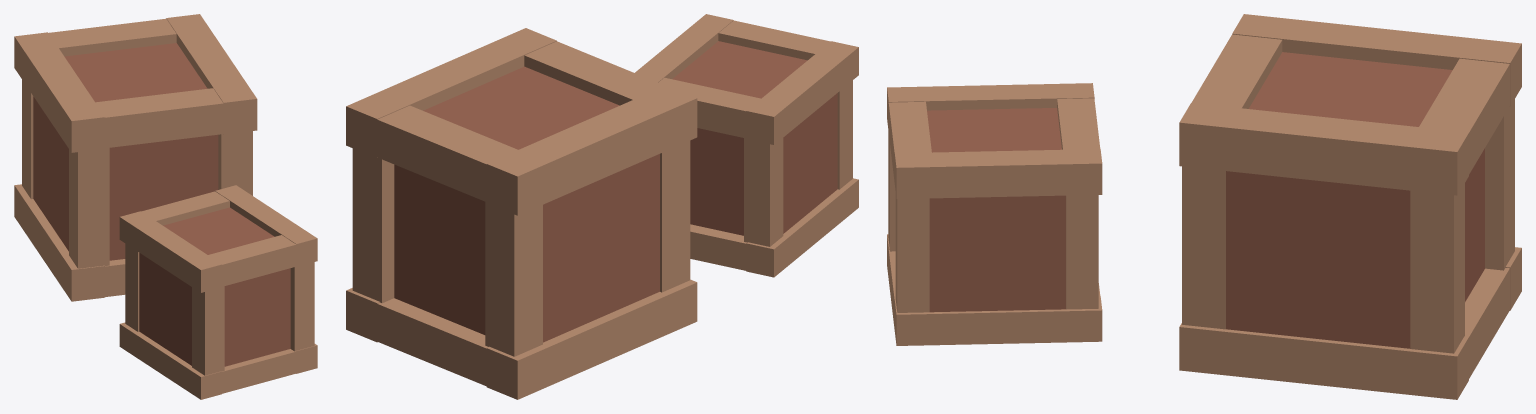
File: WoodenBoxes.fbx
The picture shows the model from 3 angles, left to right: view 1: azimuth 30°, elevation 25°; view 2: azimuth 150°, elevation 25°; view 3: azimuth 270°, elevation 25°; orthographic projection. The views are drawn at different scales.
Parts seen in each view (by area): view 1: Cube.034, Cube.040, Cube.033, Cube.036, Cube.039, Cube.041, Cube.046, Cube.042, Cube.035, Cube.043, Cube.044, Cube.038 (+2 smaller); view 2: Cube.034, Cube.033, Cube.040, Cube.038, Cube.036, Cube.035, Cube.041, Cube.037, Cube.042, Cube.039, Cube.045, Cube.043 (+2 smaller); view 3: Cube.034, Cube.033, Cube.040, Cube.035, Cube.041, Cube.038, Cube.036, Cube.043, Cube.039, Cube.046, Cube.042, Cube.045 (+1 smaller).
Part boxes in pixels (box(x1,y1,x2,y2)): Cube.034: box(33, 43, 218, 260); Cube.040: box(139, 207, 290, 366); Cube.033: box(14, 14, 257, 152); Cube.036: box(48, 18, 224, 148); Cube.039: box(69, 131, 252, 268); Cube.041: box(119, 185, 317, 292); Cube.046: box(192, 262, 314, 375); Cube.042: box(141, 191, 296, 286); Cube.035: box(14, 184, 105, 301); Cube.043: box(119, 322, 317, 399); Cube.044: box(221, 349, 296, 393); Cube.038: box(22, 80, 33, 199); Cube.034: box(394, 66, 659, 342); Cube.033: box(346, 28, 697, 215); Cube.040: box(672, 41, 837, 235); Cube.038: box(352, 148, 542, 356); Cube.036: box(377, 41, 664, 201); Cube.035: box(346, 279, 697, 399); Cube.041: box(635, 14, 858, 144); Cube.037: box(377, 298, 488, 386); Cube.042: box(658, 20, 830, 138); Cube.039: box(660, 140, 690, 292); Cube.045: box(744, 138, 783, 246); Cube.043: box(746, 178, 858, 277); Cube.034: box(1226, 52, 1484, 348); Cube.033: box(1179, 14, 1521, 195); Cube.040: box(927, 108, 1065, 312); Cube.035: box(1179, 247, 1521, 399); Cube.041: box(887, 83, 1102, 198); Cube.038: box(1410, 99, 1514, 353); Cube.036: box(1191, 34, 1509, 174); Cube.043: box(887, 234, 1102, 345); Cube.039: box(1182, 166, 1225, 329); Cube.046: box(888, 131, 929, 312); Cube.042: box(888, 98, 1100, 181); Cube.045: box(1066, 195, 1098, 309).
Size of the model in its own units: 139 by 114 by 261.
